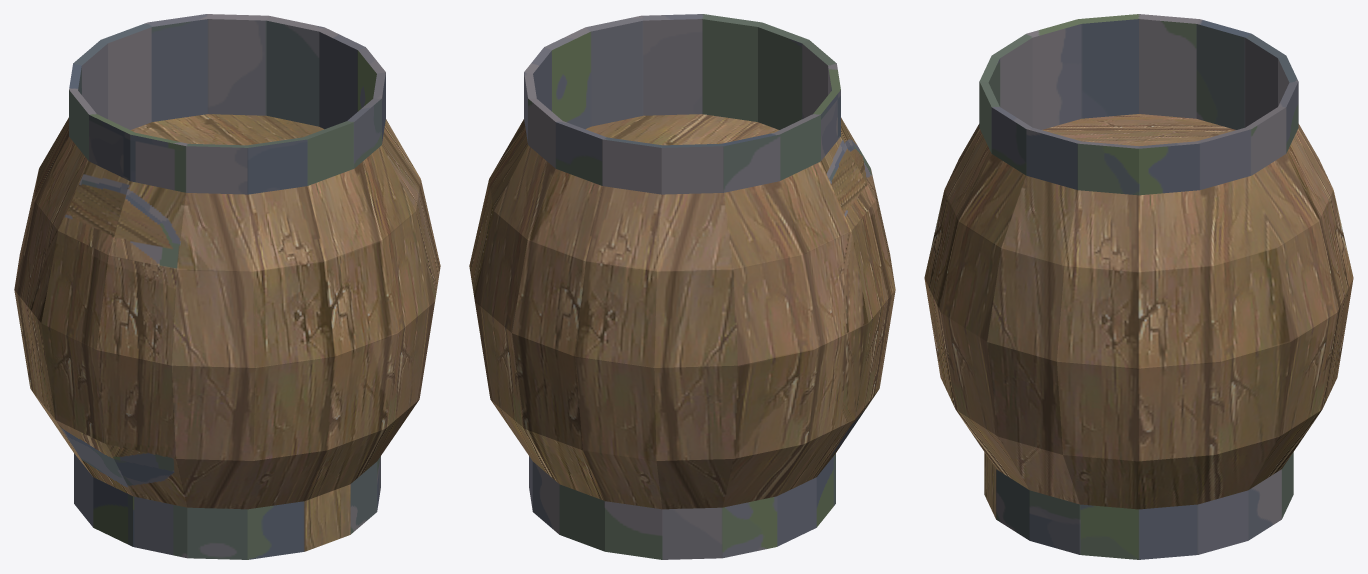
File: bucket01.fbx
3 views of the same model, side by side, from view 1: azimuth 30°, elevation 25°; view 2: azimuth 150°, elevation 25°; view 3: azimuth 270°, elevation 25° (orthographic).
Visible parts, largest first — view 1: bucket01_UV; view 2: bucket01_UV; view 3: bucket01_UV.
Part boxes in pixels (x1,y1,x2,y2): bucket01_UV: (14,14,440,559); bucket01_UV: (469,14,895,559); bucket01_UV: (924,14,1353,559).
Size of the model in its own units: 200 by 213 by 200.
Materials: 1 (1 with a texture image).
